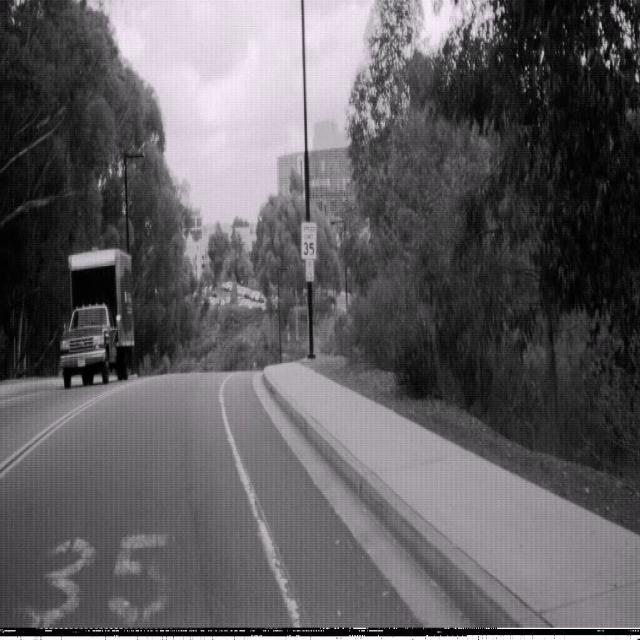speedLimit35: (300, 219, 317, 260)
